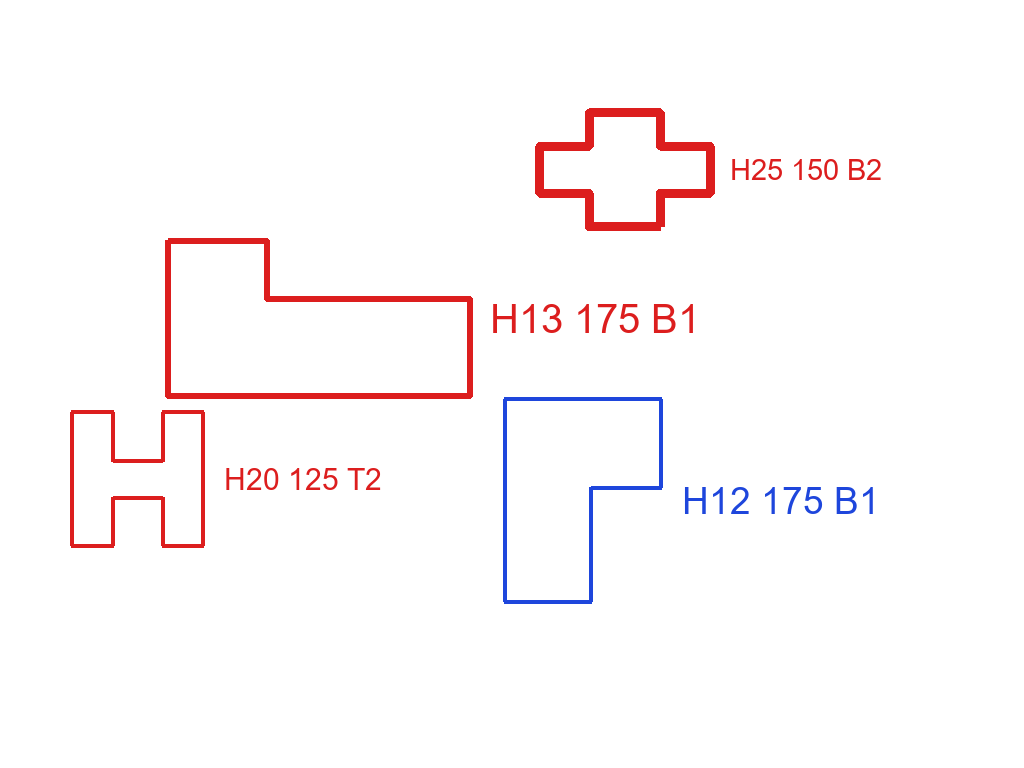shape: (163, 235, 475, 402), (500, 396, 666, 606), (533, 106, 717, 233), (68, 409, 208, 549)
text: (488, 302, 702, 335), (680, 485, 882, 516), (222, 466, 384, 492), (728, 157, 884, 182)
